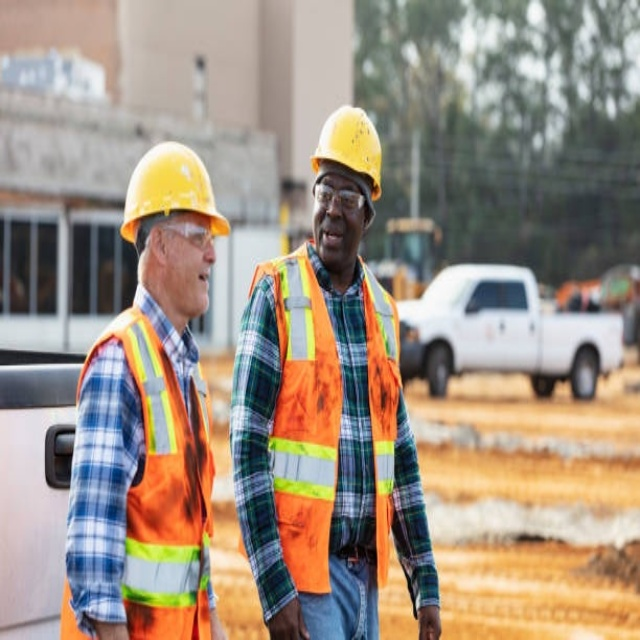Gafas: (157, 220, 214, 249), (314, 184, 367, 212)
Sin_guantes: (266, 593, 312, 638), (416, 608, 444, 633)
Sin_mascara: (182, 266, 213, 305), (318, 221, 346, 256)
